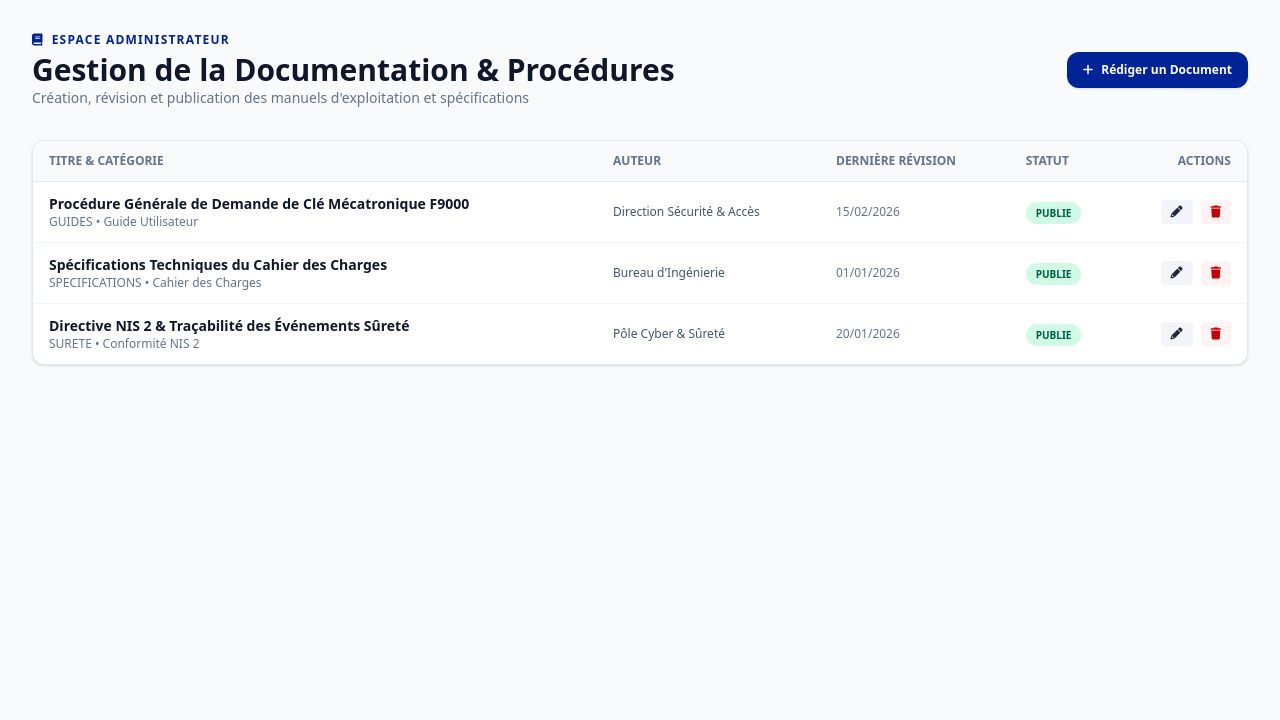
Test: User Story 4.4: DocumentationAdmin Component › opens create new document form when button is clicked
Click the button "Rédiger un Document": (1157, 70) [1067,52,1248,88]
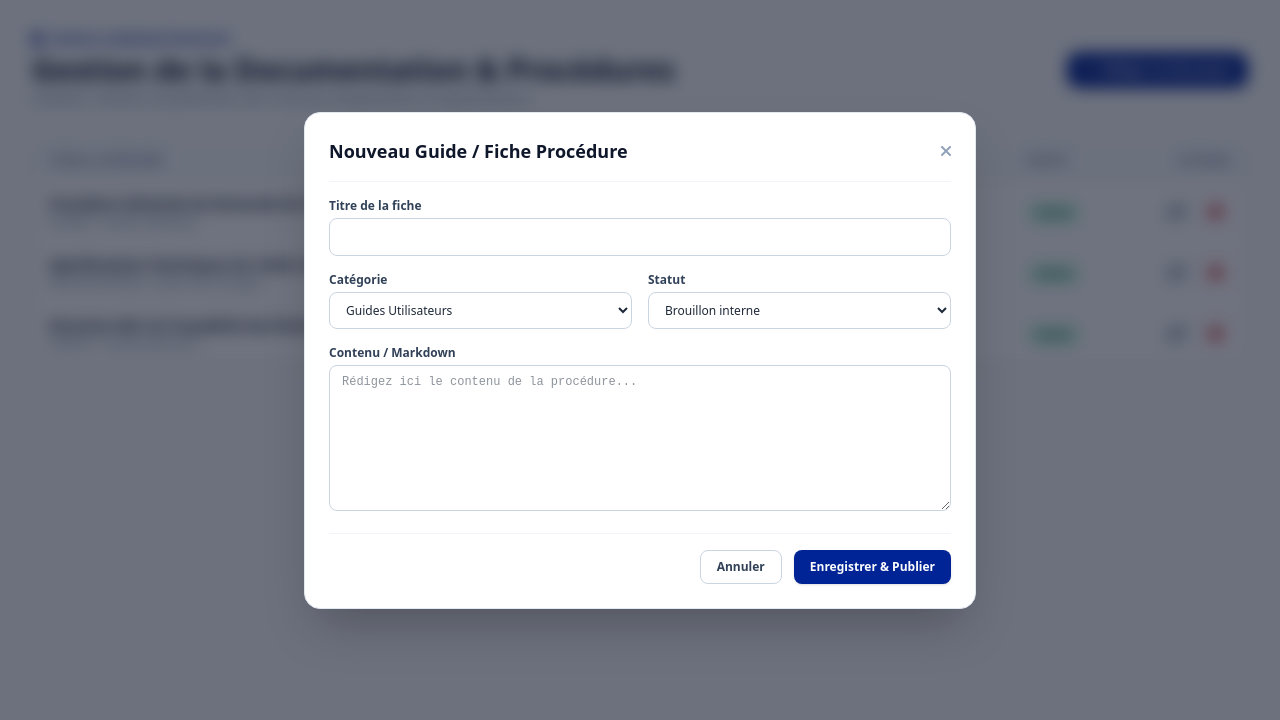
Check: the heading "Nouveau Guide / Fiche Procédure" is shown, box [329,136,628,164]
Check: the button "Enregistrer & Publier" is shown, box [794,550,951,584]
Click the button "Annuler": (741, 566) [700,550,782,584]
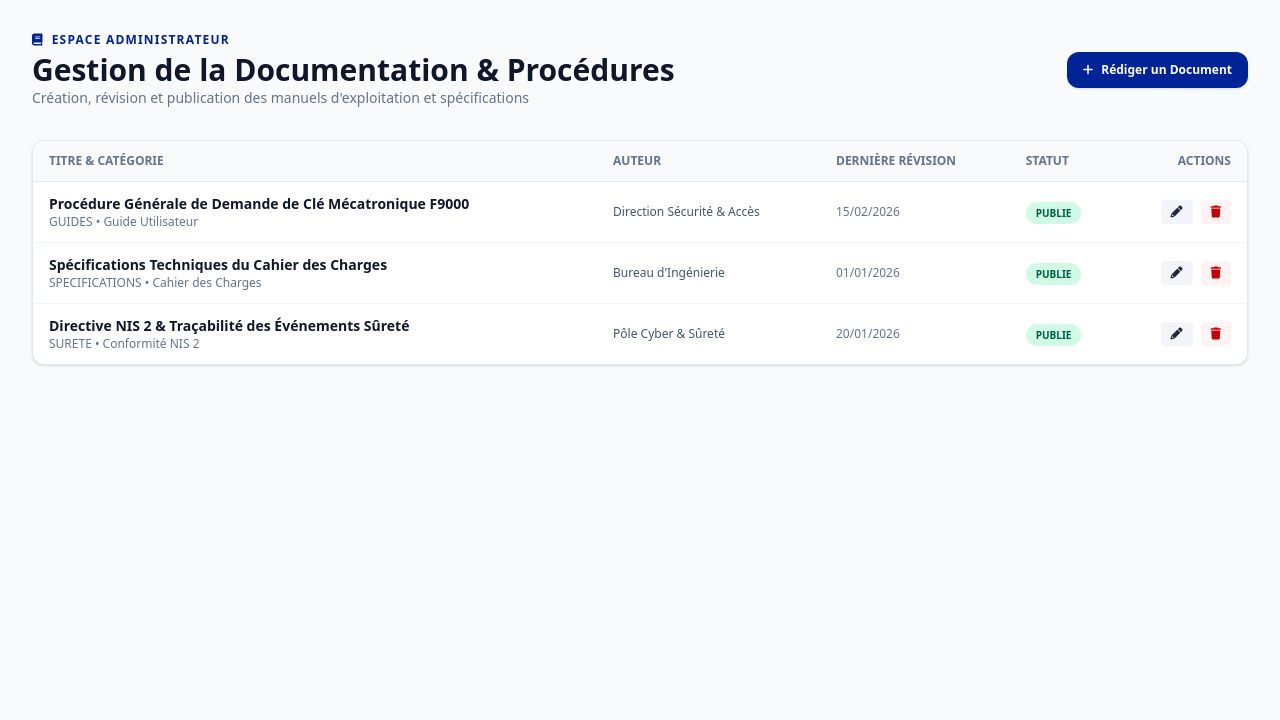
Check: the heading "Nouveau Guide / Fiche Procédure" is gone
